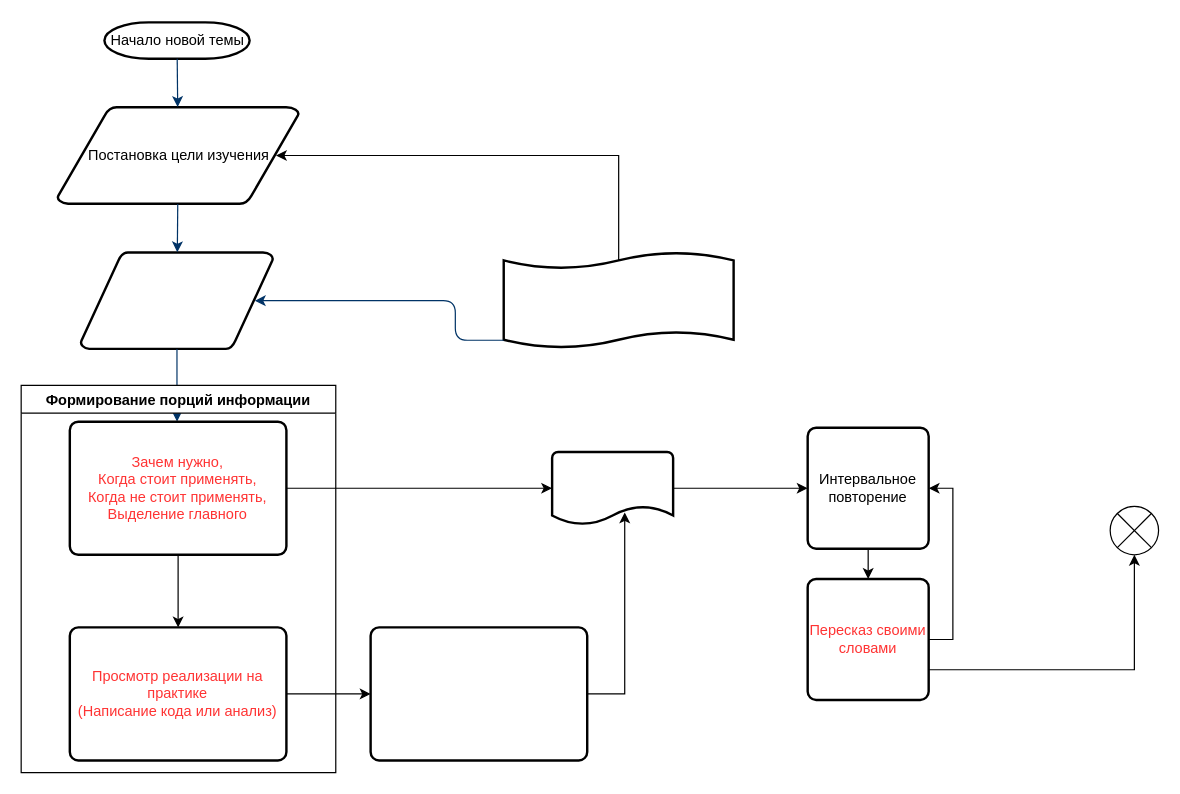
This 1180x794 diagram has some shape labels left out. The centre of each missing label's shape, as x and y in pixels:
"Выделение понятий (Ключевых слов)" goes at point (176, 300).
"Дополнение своими вопросами и мыслями" goes at point (478, 693).
"Конспект" goes at point (612, 487).
"Тема может содержать подтемы" goes at point (618, 299).
